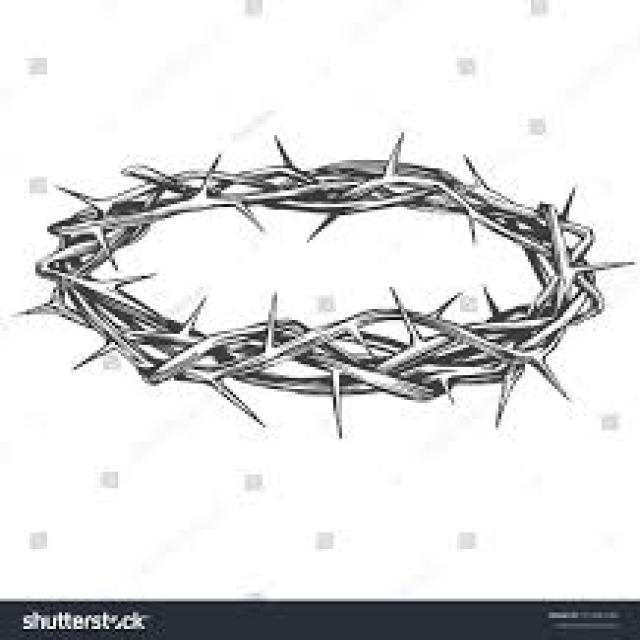crown: (14, 130, 625, 438)
